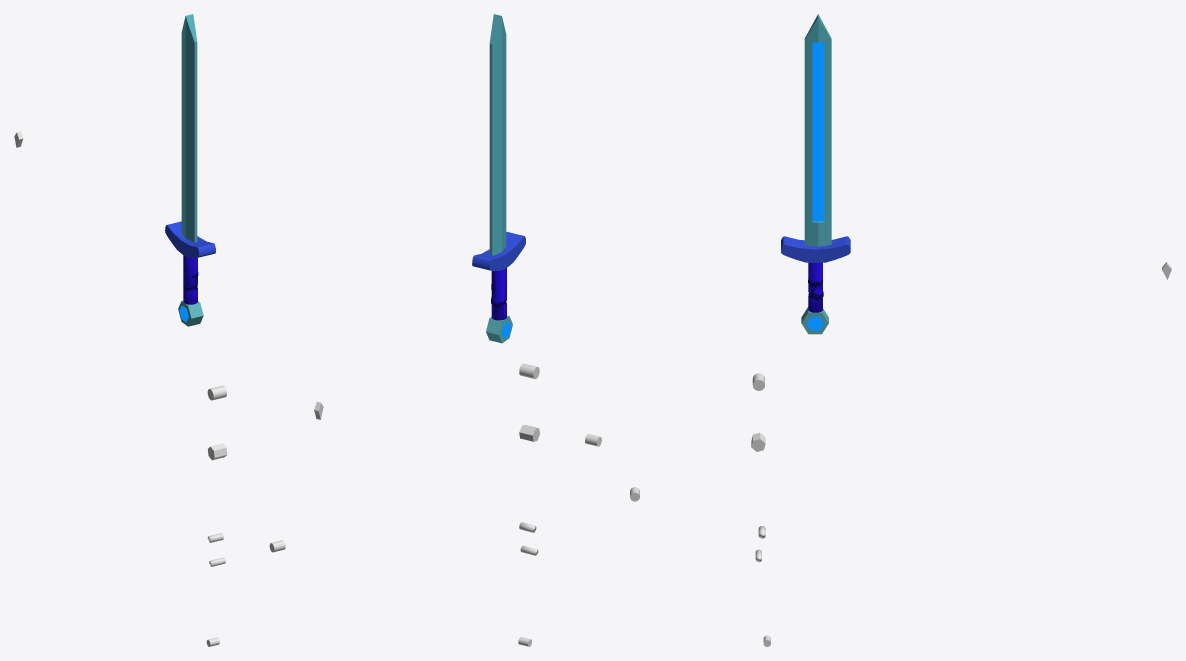
Rendered from SWORD02.glb.
The picture shows the model from 3 angles, left to right: view 1: azimuth 30°, elevation 25°; view 2: azimuth 150°, elevation 25°; view 3: azimuth 270°, elevation 25°; orthographic projection. The views are drawn at different scales.
Parts seen in each view (by area): view 1: Cube.001, Cube, Cylinder, Cylinder.001; view 2: Cube.001, Cube, Cylinder, Cylinder.001; view 3: Cube.001, Cube.
Boxes of the visible parts, x1=… form: Cube.001: x1=181, y1=14, x2=197, y2=242; Cube: x1=165, y1=221, x2=215, y2=257; Cylinder: x1=183, y1=255, x2=198, y2=304; Cylinder.001: x1=178, y1=300, x2=203, y2=326; Cube.001: x1=489, y1=14, x2=506, y2=255; Cube: x1=472, y1=232, x2=525, y2=271; Cylinder: x1=491, y1=268, x2=506, y2=320; Cylinder.001: x1=486, y1=315, x2=512, y2=343; Cube.001: x1=804, y1=14, x2=831, y2=246; Cube: x1=781, y1=236, x2=850, y2=262.
Size of the model in its own units: 0.293 by 10.18 by 7.94.
